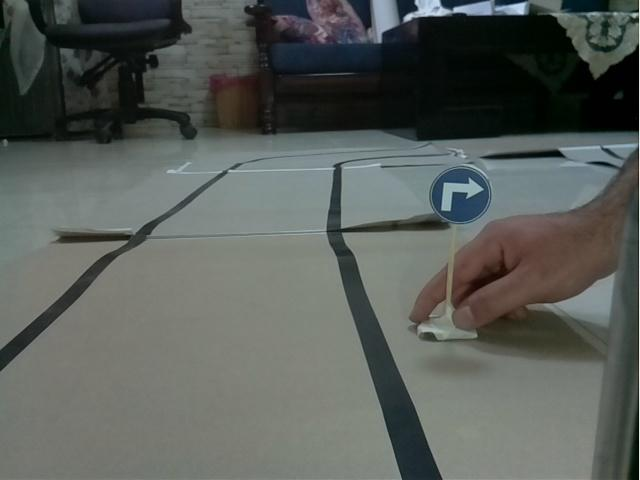turn: (427, 162, 495, 229)
